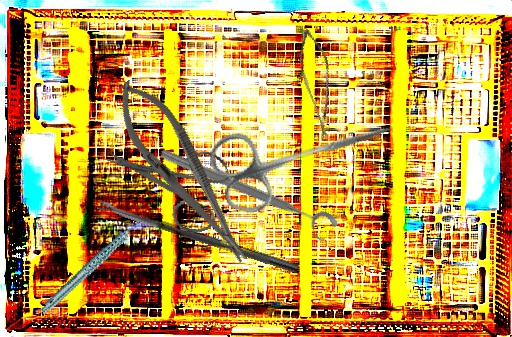Fixation Ring: (153, 144, 341, 246)
Handpiece: (26, 219, 159, 315)
Iris Scissors: (203, 85, 406, 222), (102, 119, 243, 253)
Micro Scissor: (282, 26, 355, 142)
Needle Holder: (101, 68, 265, 277)
Surgical Spoon: (96, 198, 300, 274)
